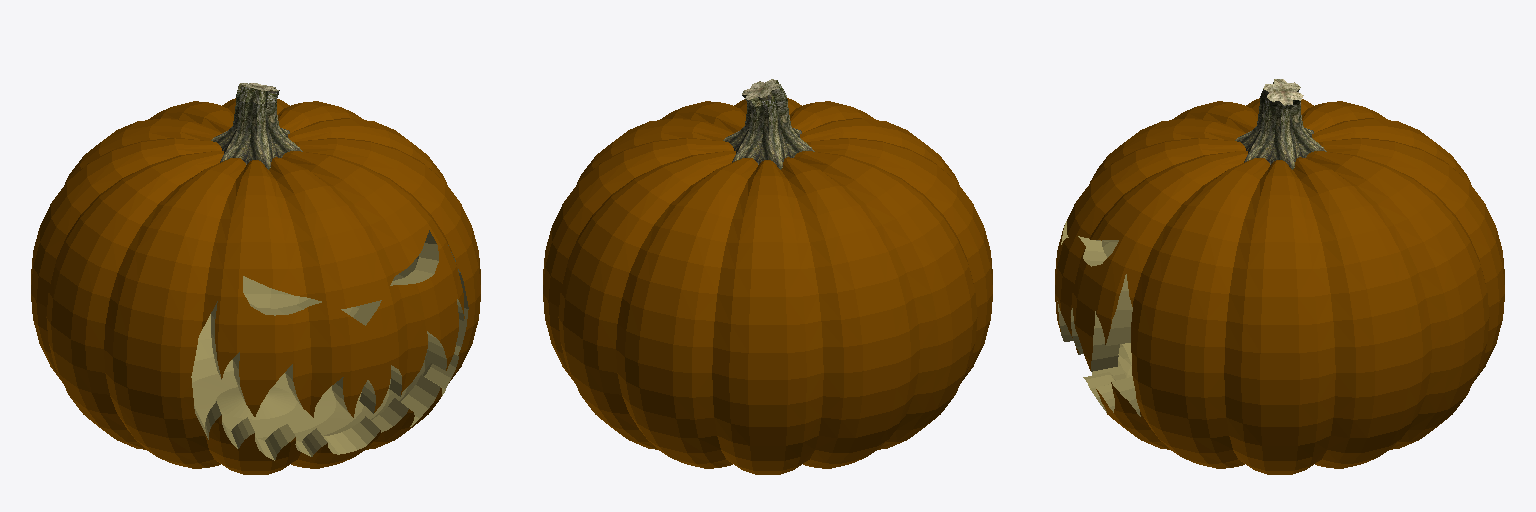
3 views of the same model, side by side, from view 1: azimuth 30°, elevation 25°; view 2: azimuth 150°, elevation 25°; view 3: azimuth 270°, elevation 25° (orthographic).
Parts seen in each view (by area): view 1: Pumpkin_Mesh4_PumpkinA1_Model; view 2: Pumpkin_Mesh4_PumpkinA1_Model; view 3: Pumpkin_Mesh4_PumpkinA1_Model.
Part boxes in pixels (x1,y1,x2,y2): Pumpkin_Mesh4_PumpkinA1_Model: (31,83,480,474); Pumpkin_Mesh4_PumpkinA1_Model: (543,79,992,474); Pumpkin_Mesh4_PumpkinA1_Model: (1055,79,1504,474).
Bounding box in the file's own units: 0.4981 × 0.4204 × 0.4981.
4 materials, 2 textured.